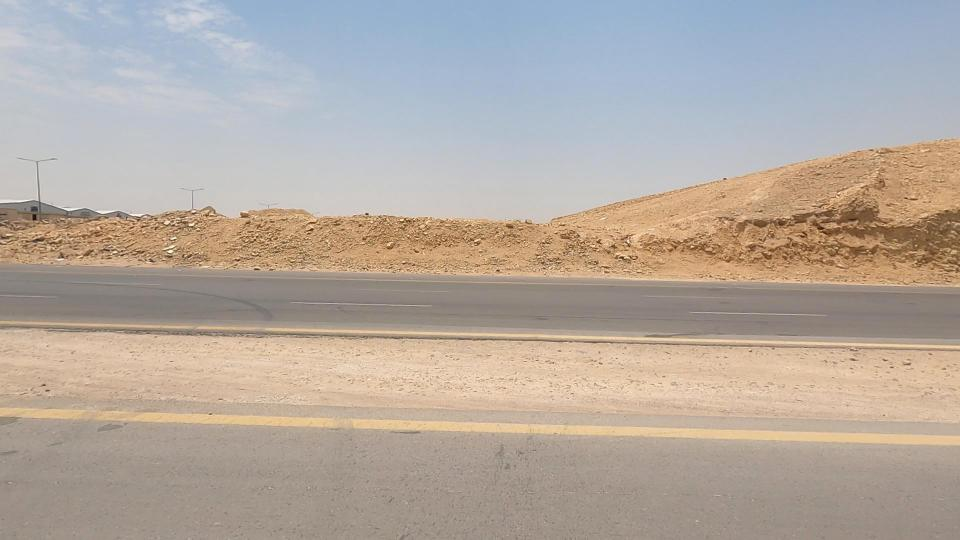SAND_ON_ROAD: (0, 171, 344, 312), (183, 170, 436, 307), (374, 190, 640, 296)
